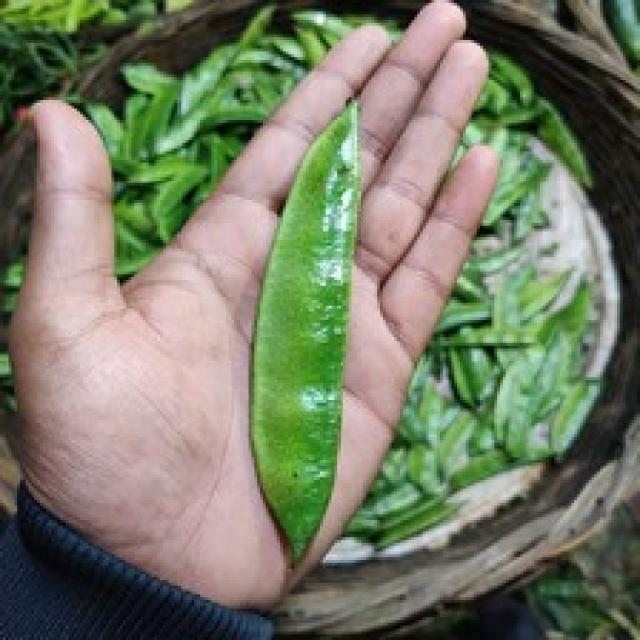Bean: (246, 97, 360, 569)
